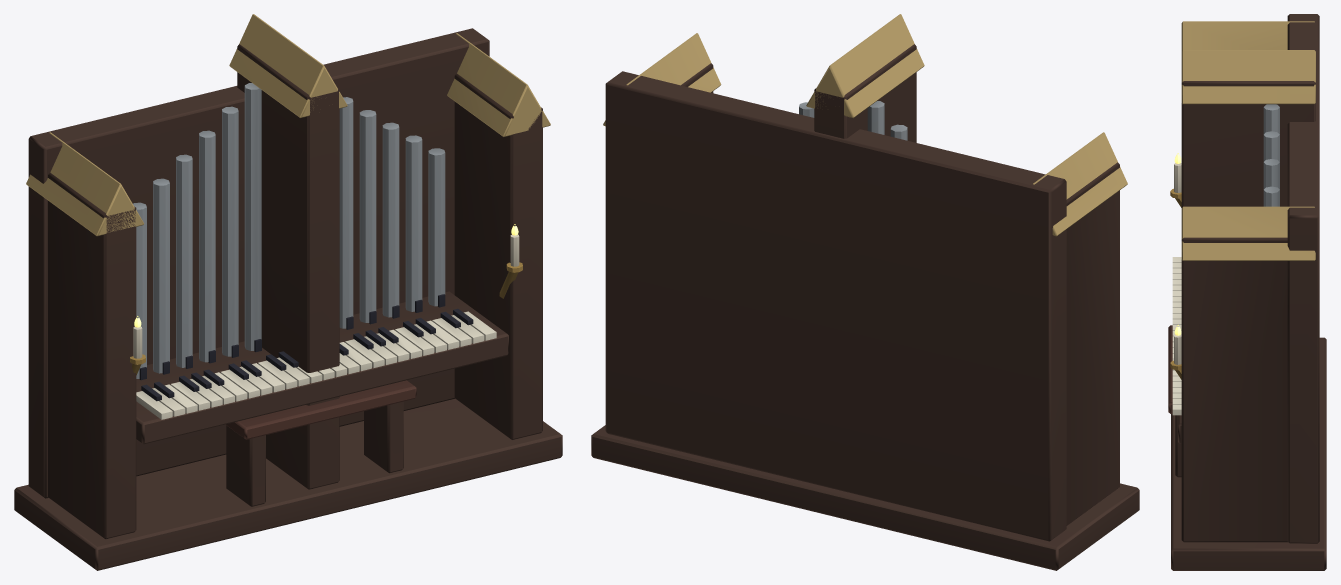
Rendered from organ_pipe.glb.
The picture shows the model from 3 angles, left to right: view 1: azimuth 30°, elevation 25°; view 2: azimuth 150°, elevation 25°; view 3: azimuth 270°, elevation 25°; orthographic projection. The views are drawn at different scales.
Visible parts, largest first — view 1: organ_pipe, speaker; view 2: organ_pipe, speaker; view 3: organ_pipe, speaker.
Part boxes in pixels (<box>): organ_pipe: <box>14,14,562,570</box>; speaker: <box>133,83,445,380</box>; organ_pipe: <box>591,14,1139,570</box>; speaker: <box>799,101,907,140</box>; organ_pipe: <box>1168,14,1326,570</box>; speaker: <box>1263,104,1279,206</box>.
Size of the model in its own units: 2.85 by 2.59 by 0.895.
